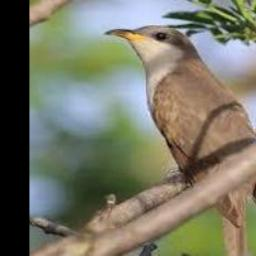Cuckoo: (105, 25, 256, 256)
